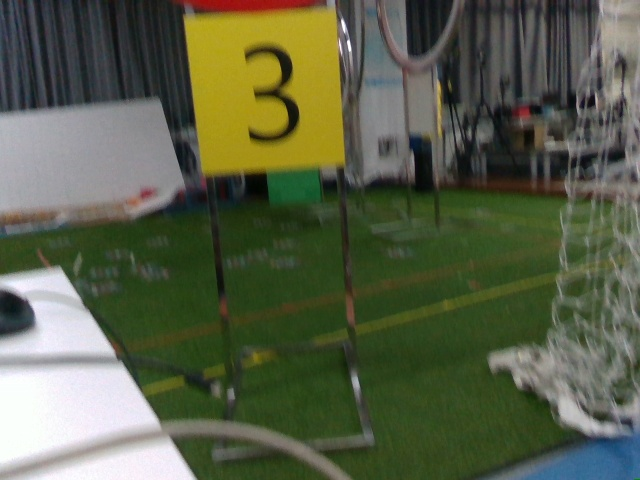target: (196, 17, 330, 167)
